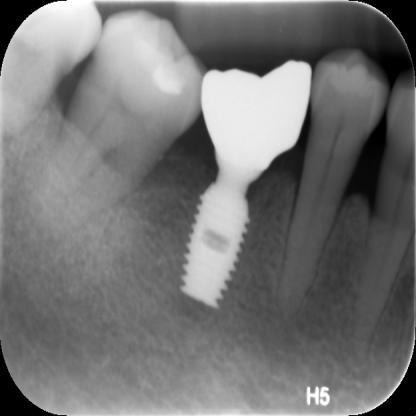Bicon: (184, 164, 266, 314)
